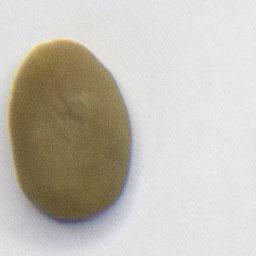premium: (7, 35, 137, 226)
